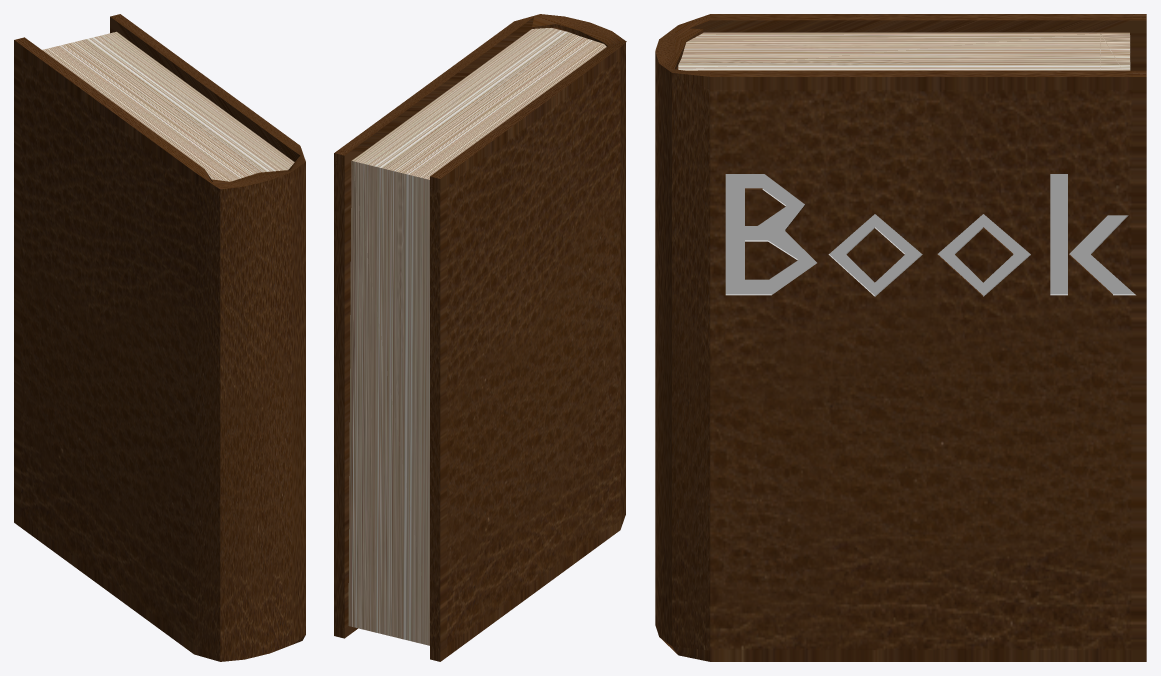
File: Book.fbx
3 views of the same model, side by side, from view 1: azimuth 30°, elevation 25°; view 2: azimuth 150°, elevation 25°; view 3: azimuth 270°, elevation 25° (orthographic). The views are drawn at different scales.
Visible parts, largest first — view 1: Cube.002; view 2: Cube.002; view 3: Cube.002.
Part boxes in pixels (x1,y1,x2,y2): Cube.002: (14,14,305,661); Cube.002: (334,14,626,661); Cube.002: (655,14,1146,661).
Bounding box in the file's own units: 9.6 × 41.63 × 31.7.
3 materials, 2 textured.
